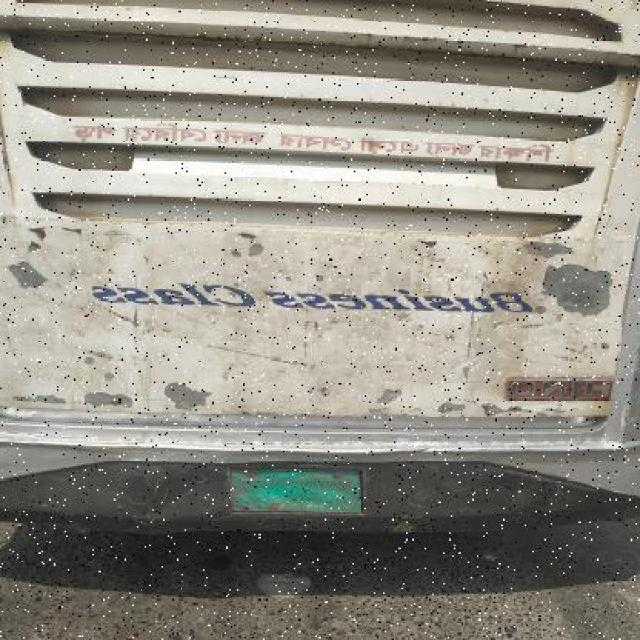numberplate: (229, 464, 366, 516)
